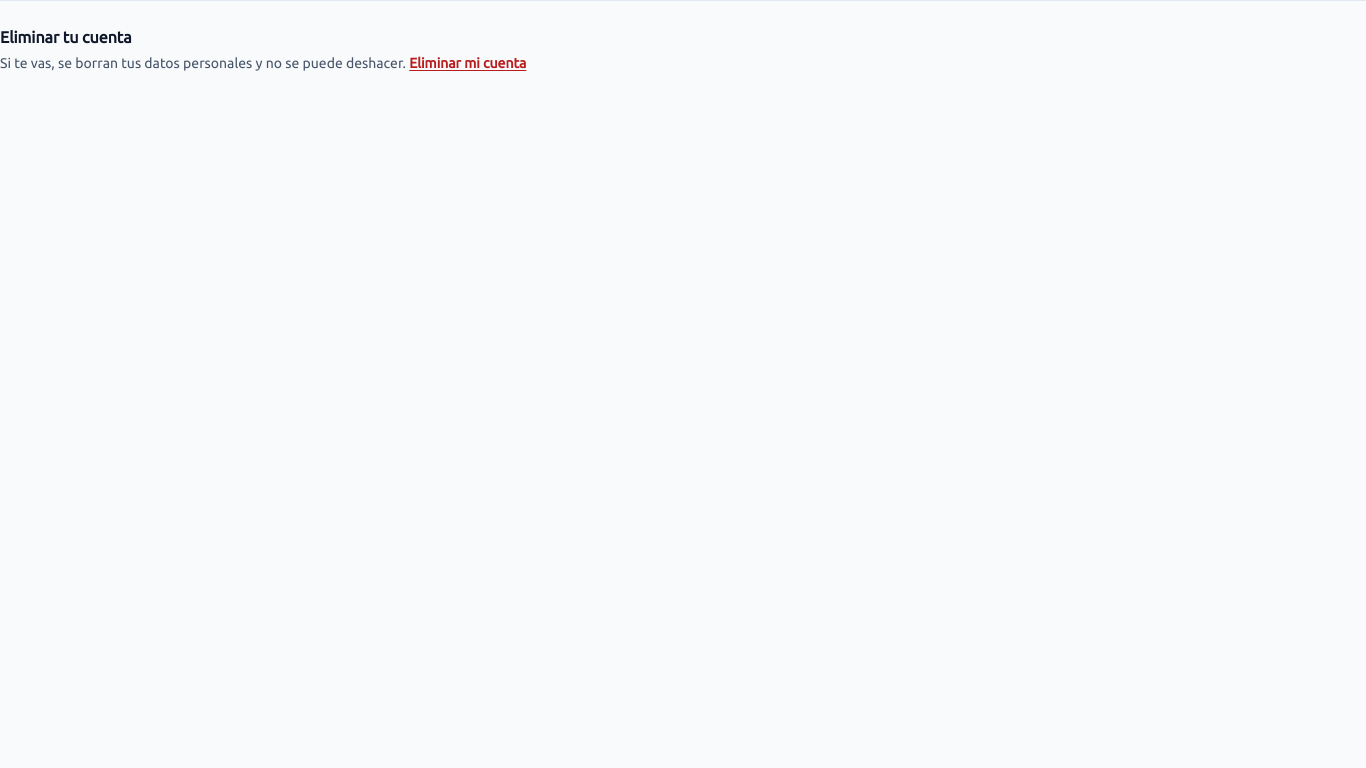
DeleteAccountSection › es discreto: un título pequeño, una frase y un enlace; el detalle sale al pulsarlo
This screenshot has width=1366, height=768.
Expected: the heading reads "Eliminar tu cuenta", [0,28,132,46]
Click the button "Eliminar mi cuenta": (468, 63) [409,41,526,85]
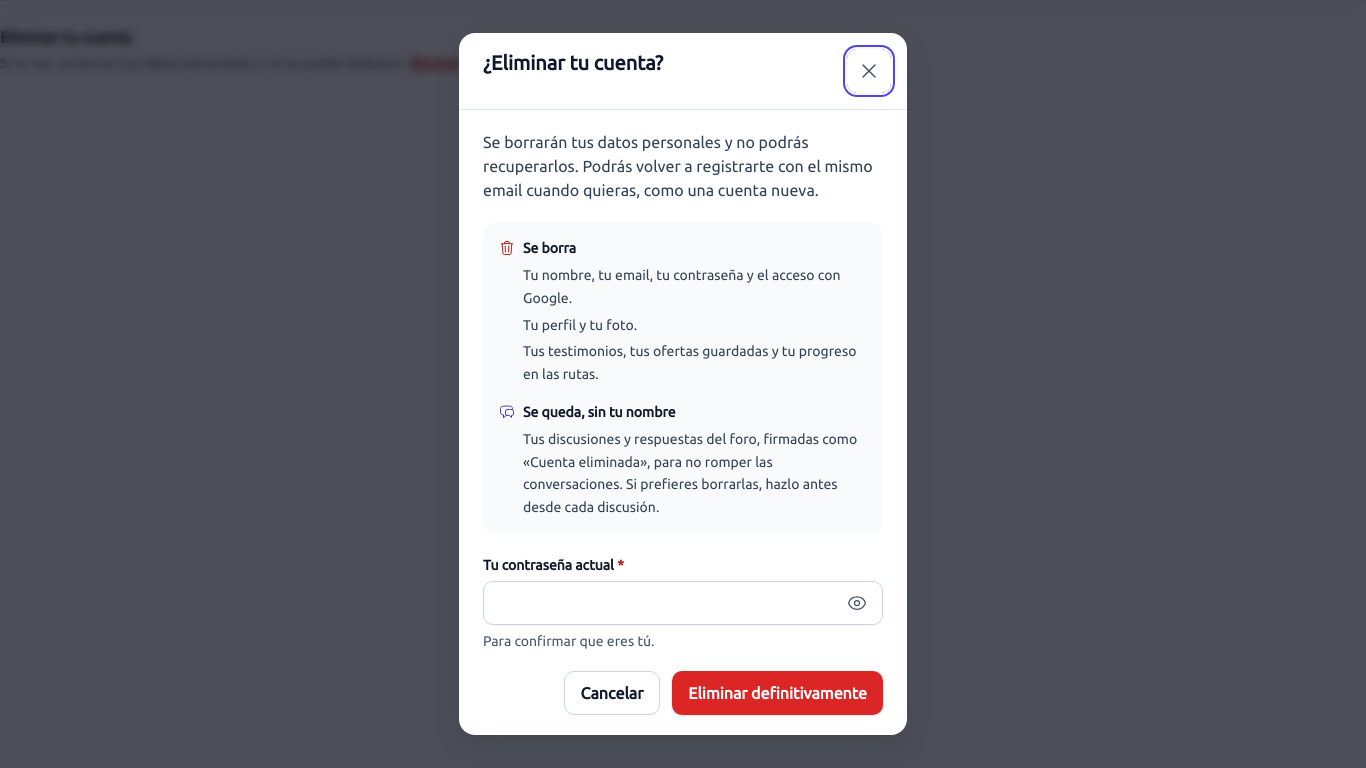
Expected: the heading "Se borra" is shown, [499,240,576,256]
Expected: the heading "Se queda, sin tu nombre" is shown, [499,404,676,420]
Expected: the dialog "¿Eliminar tu cuenta?" shows "firmadas como «Cuenta eliminada»", [523,431,857,515]
